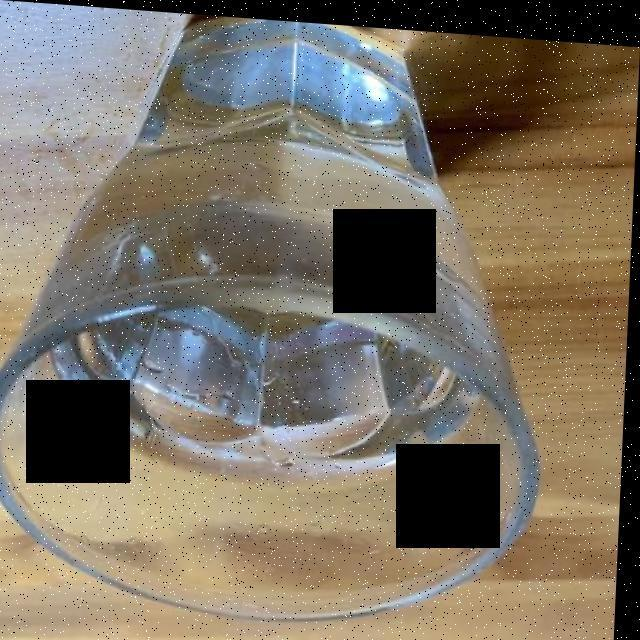water: (56, 309, 507, 603)
